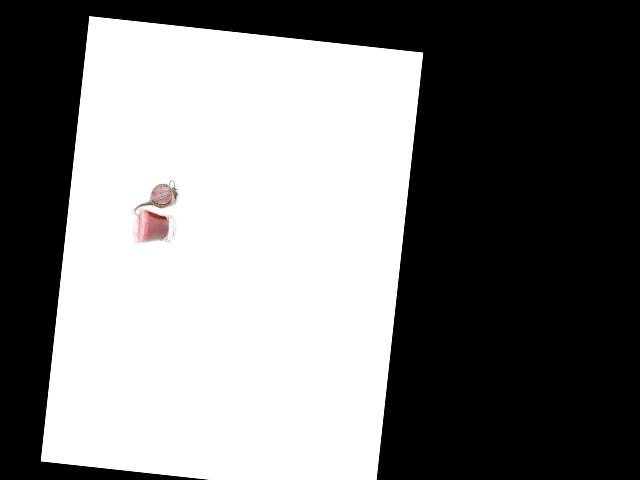beet: (131, 176, 179, 224)
